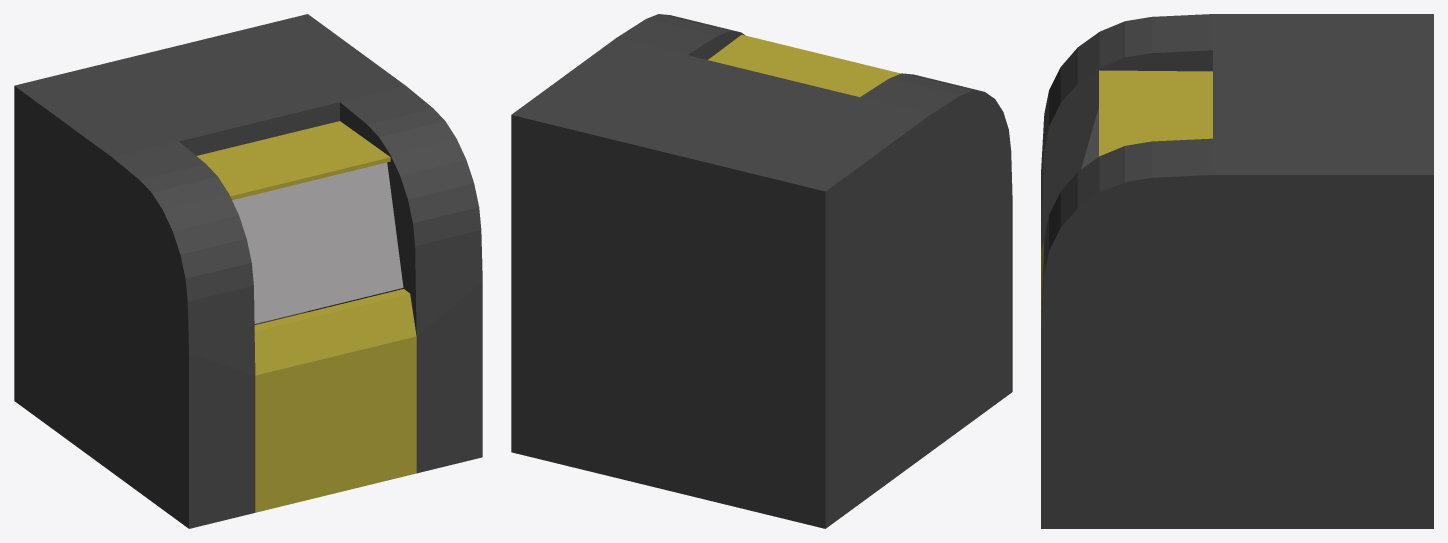
Rendered from Trashbin big 3.fbx.
3 views of the same model, side by side, from view 1: azimuth 30°, elevation 25°; view 2: azimuth 150°, elevation 25°; view 3: azimuth 270°, elevation 25° (orthographic). The views are drawn at different scales.
Visible parts, largest first — view 1: Cube.012, Cube.010, Cube.009, Cube.011; view 2: Cube.012, Cube.011; view 3: Cube.012, Cube.011, Cube.009.
Boxes of the visible parts, <box> form: Cube.012: <box>14,14,482,528</box>; Cube.010: <box>254,289,416,512</box>; Cube.009: <box>232,162,403,323</box>; Cube.011: <box>197,121,390,200</box>; Cube.012: <box>511,14,1012,528</box>; Cube.011: <box>708,34,900,96</box>; Cube.012: <box>1041,14,1433,528</box>; Cube.011: <box>1099,70,1212,156</box>; Cube.009: <box>1081,107,1098,169</box>.
Bounding box in the file's own units: 92.79 × 95.19 × 95.73.
